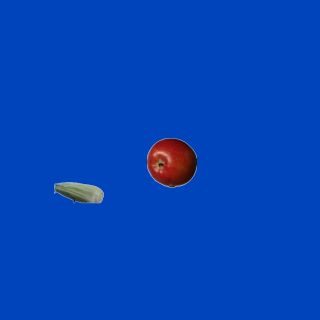Apple Braeburn: (146, 137, 196, 187)
Corn Husk: (53, 167, 103, 217)
